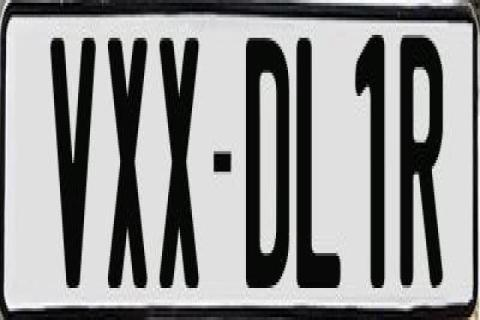0: (356, 35, 390, 288)
D: (244, 38, 292, 302)
L: (294, 29, 338, 282)
R: (396, 29, 444, 294)
V: (48, 38, 98, 297)
X: (105, 29, 149, 279), (160, 38, 200, 302)
